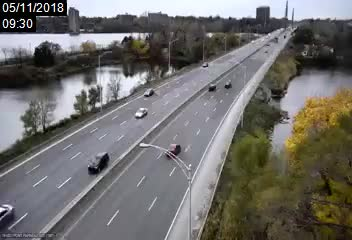personal_car: (87, 151, 109, 174), (1, 203, 15, 232), (165, 144, 181, 159), (135, 108, 147, 120), (144, 88, 154, 97), (207, 83, 217, 92), (224, 81, 231, 89), (202, 62, 208, 67)
